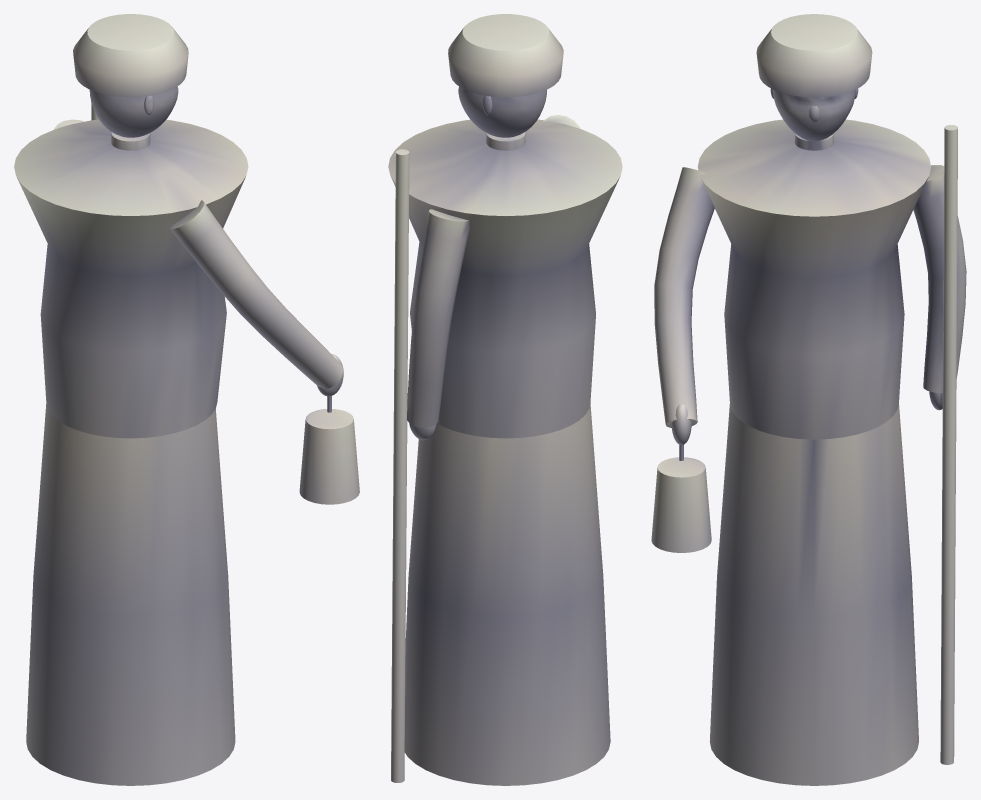
File: bhima.glb
3 views of the same model, side by side, from view 1: azimuth 30°, elevation 25°; view 2: azimuth 150°, elevation 25°; view 3: azimuth 270°, elevation 25° (orthographic).
Parts seen in each view (by area): view 1: body; view 2: body; view 3: body.
Boxes of the visible parts, x1,y1,x2,y2 form: body: (14,14,359,785); body: (388,14,622,785); body: (651,14,966,785).
Bounding box in the file's own units: 0.745 × 1.98 × 0.7829.
